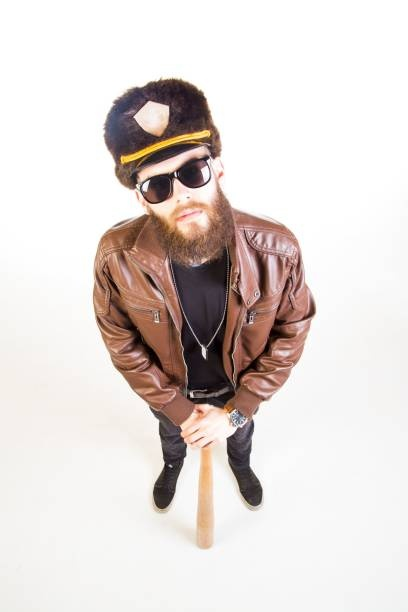bita: (194, 419, 216, 549)
